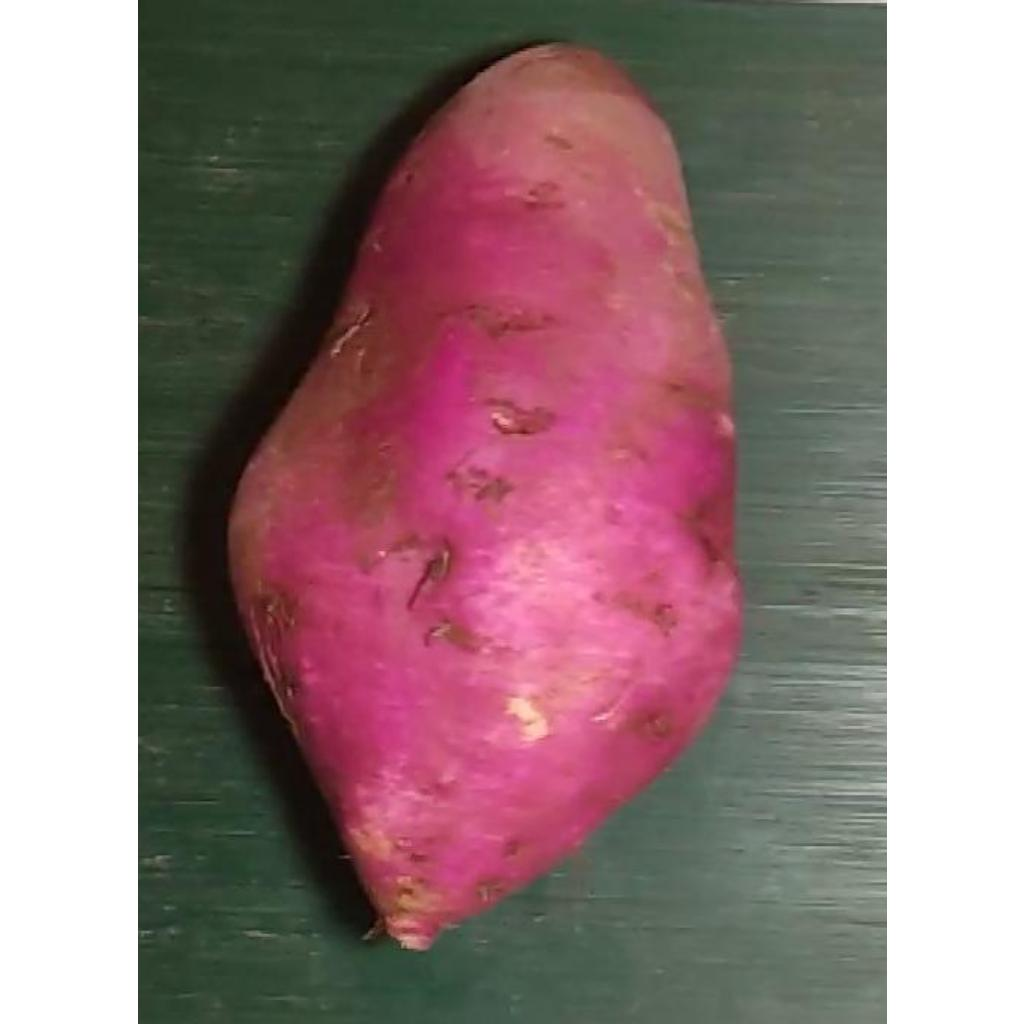Sweet Potato: (227, 44, 744, 956)
